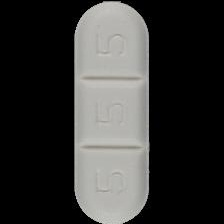0378-1165: (0, 0, 224, 224)
